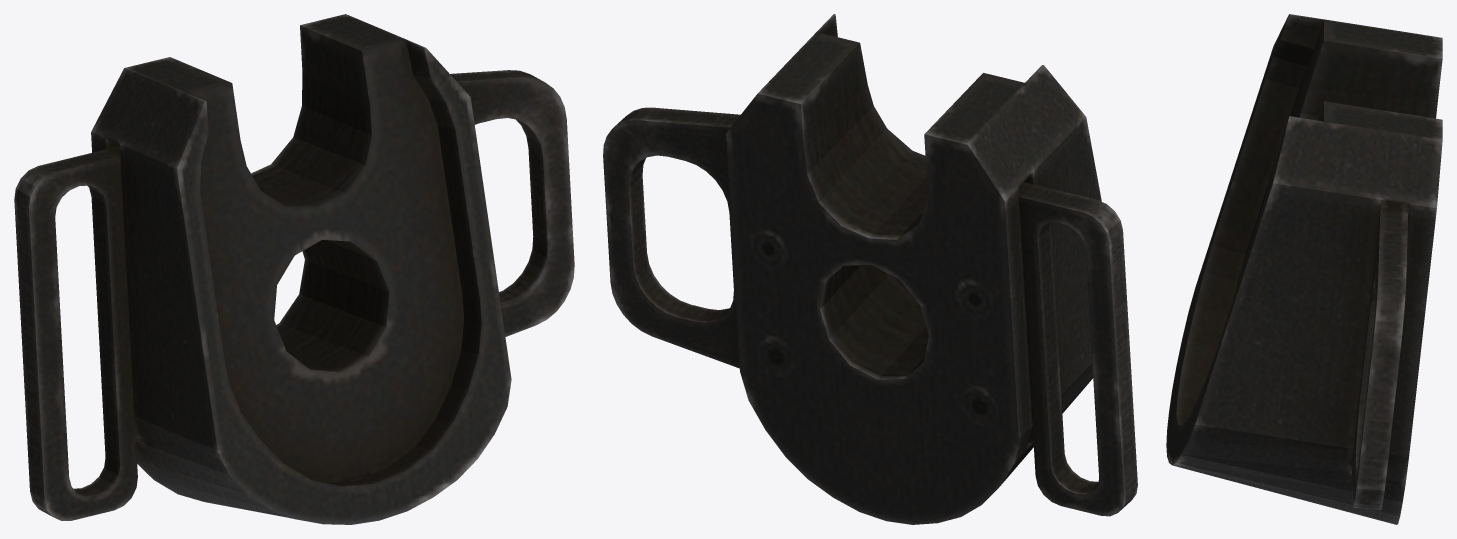
3 views of the same model, side by side, from view 1: azimuth 30°, elevation 25°; view 2: azimuth 150°, elevation 25°; view 3: azimuth 270°, elevation 25° (orthographic). The views are drawn at different scales.
Parts seen in each view (by area): view 1: TW_5bfe7fb30db8340018089fed_PZ_Import; view 2: TW_5bfe7fb30db8340018089fed_PZ_Import; view 3: TW_5bfe7fb30db8340018089fed_PZ_Import.
Boxes of the visible parts, x1,y1,x2,y2 form: TW_5bfe7fb30db8340018089fed_PZ_Import: (14, 14, 574, 524); TW_5bfe7fb30db8340018089fed_PZ_Import: (603, 14, 1137, 524); TW_5bfe7fb30db8340018089fed_PZ_Import: (1166, 14, 1442, 524).
Bounding box in the file's own units: 0.0365 × 0.0171 × 0.0304.
1 material, 1 textured.
